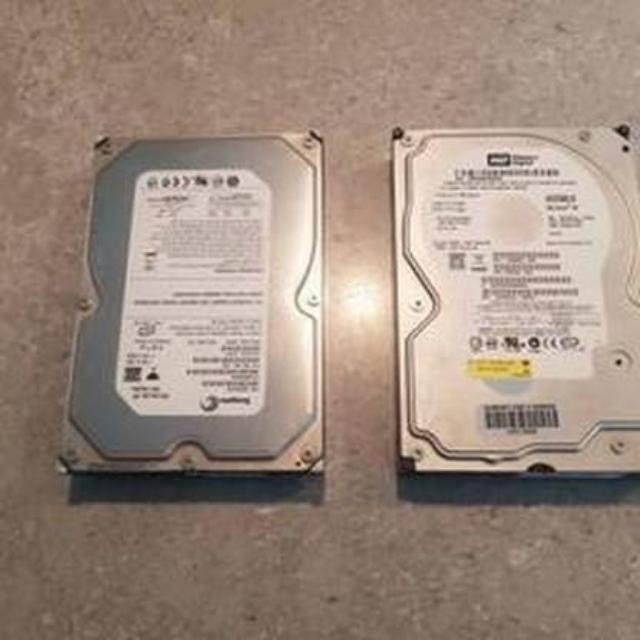DISK: (56, 124, 334, 482), (392, 124, 640, 482)
